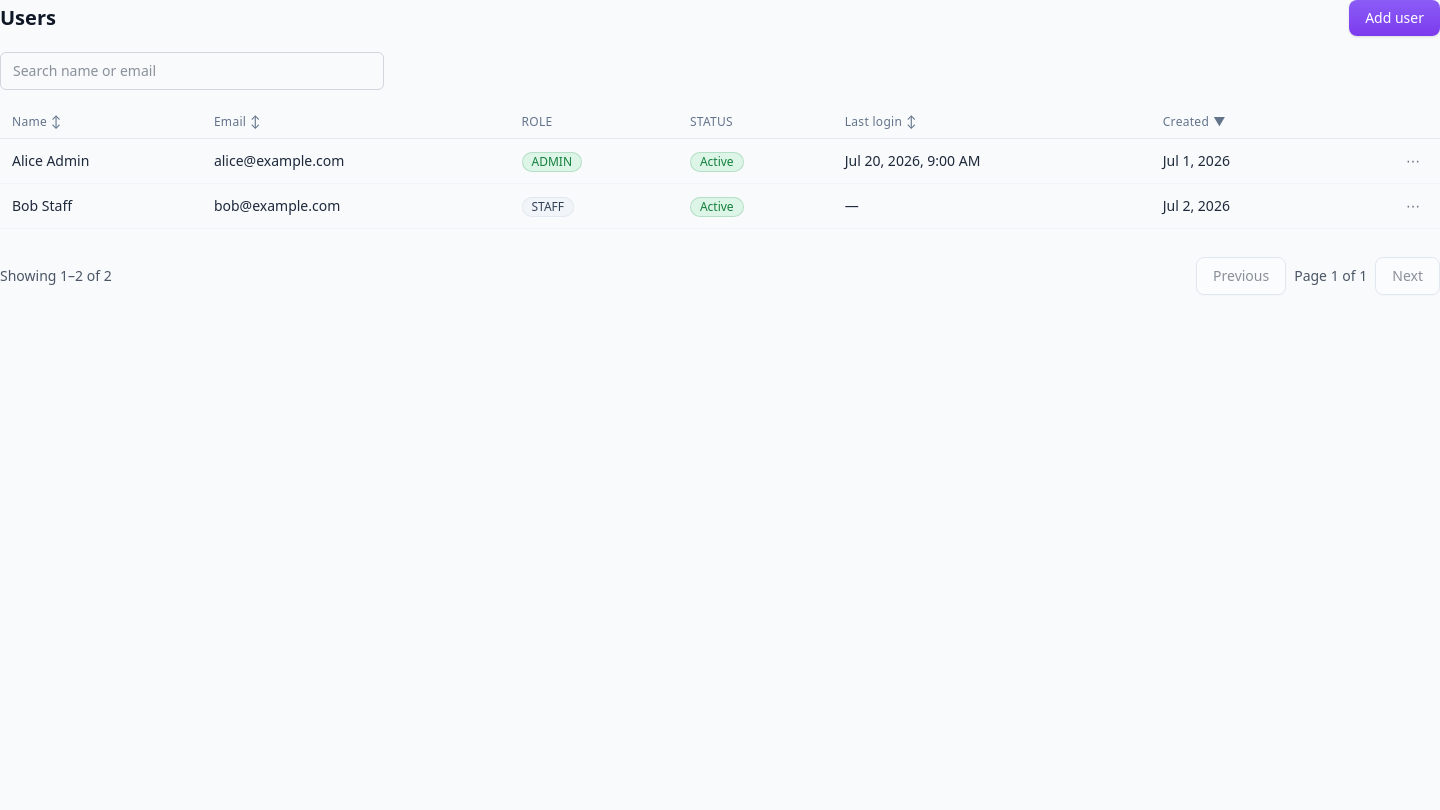
Users page (UC-04) › shows the out-of-band reset link with a copy control (AS-6)
Click the button named "row actions".
click(1413, 161)  # box [1398,147,1428,175]
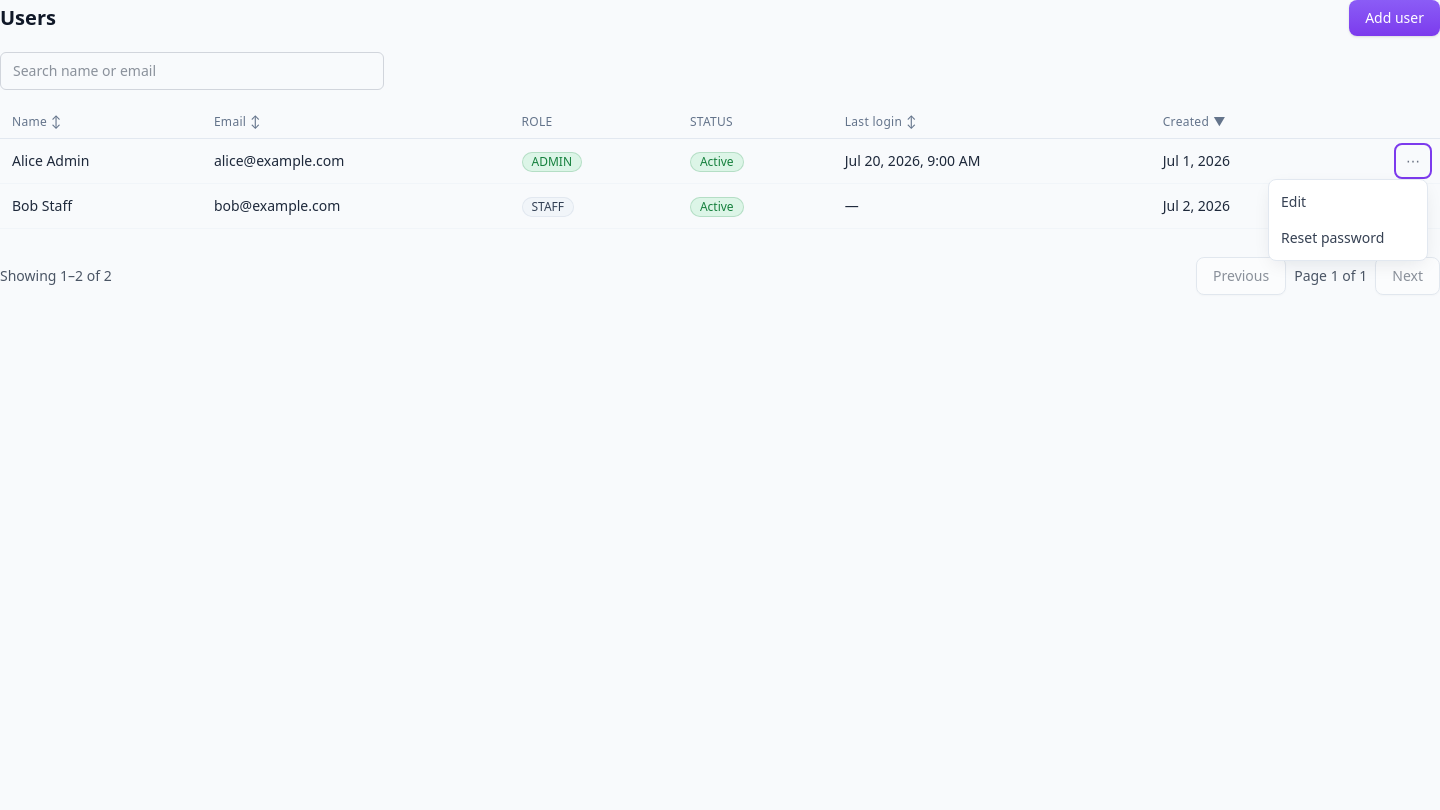
Click the menu item "Reset password".
click(1348, 238)  # box [1269,220,1427,256]
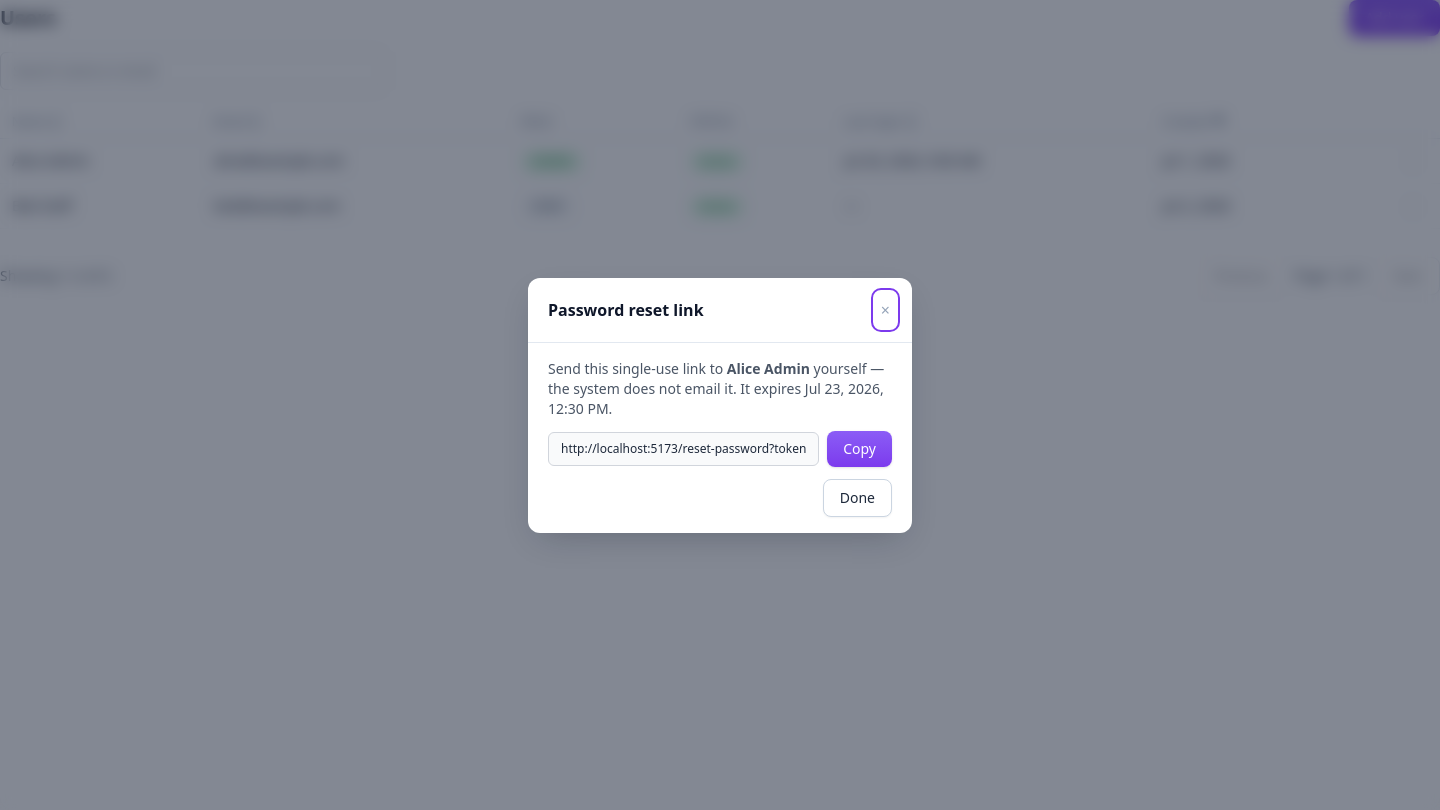
Expected: the field named "Reset link" holds "http://localhost:5173/reset-password?token=abc123", [548,432,819,466]
Expected: the button "Copy" is shown, [827,430,892,466]
